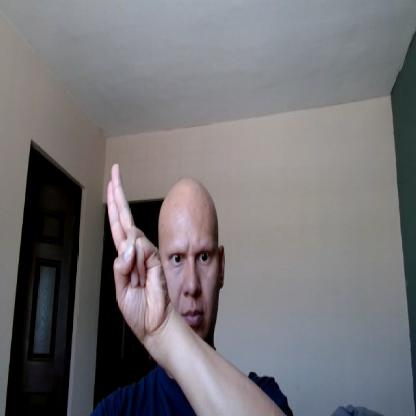U: (105, 163, 166, 335)
